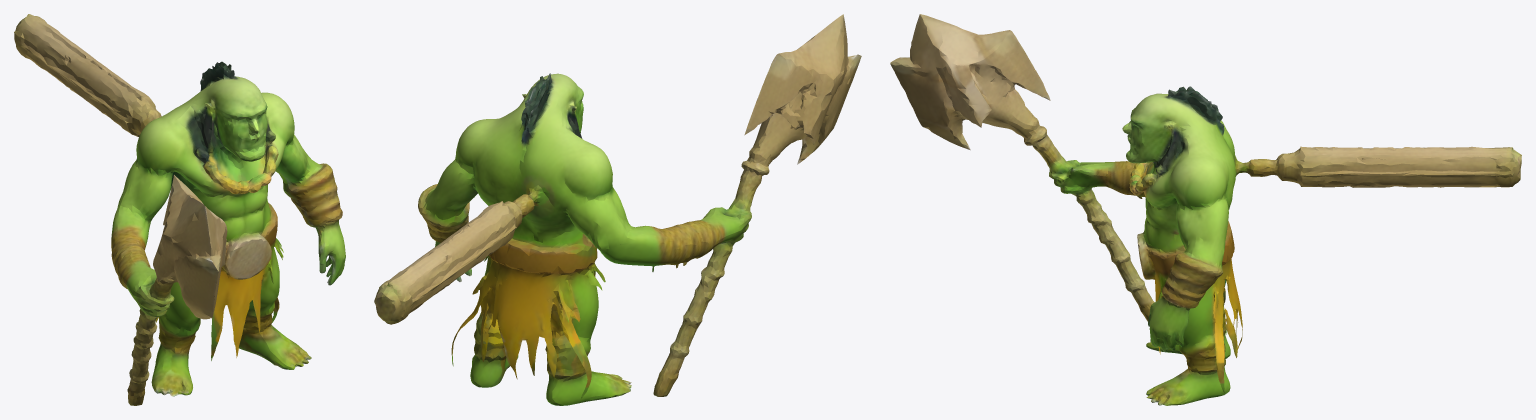
Rendered from orc_shaman.glb.
3 renders of one model, left to right at view 1: azimuth 30°, elevation 25°; view 2: azimuth 150°, elevation 25°; view 3: azimuth 270°, elevation 25°, orthographic. The views are drawn at different scales.
Parts seen in each view (by area): view 1: orc_shaman; view 2: orc_shaman; view 3: orc_shaman.
Boxes of the visible parts, x1,y1,x2,y2 form: orc_shaman: (14,14,345,405); orc_shaman: (374,14,861,405); orc_shaman: (890,14,1521,405).
Bounding box in the file's own units: 0.943 × 0.9456 × 1.89.
1 material, 1 textured.
